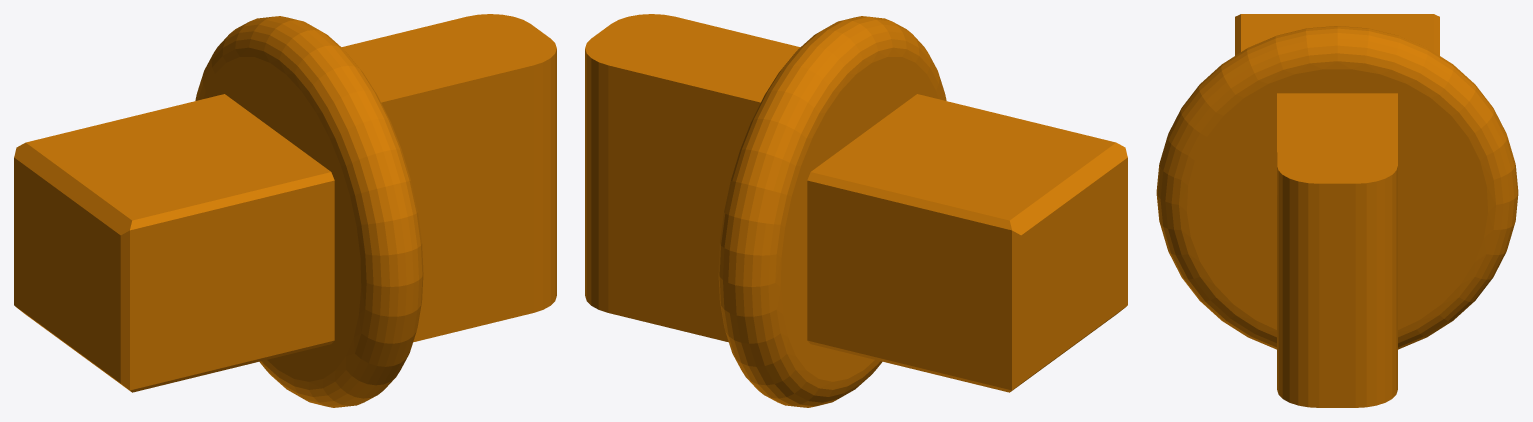
The model's file is yaw3.dae.
3 renders of one model, left to right at view 1: azimuth 30°, elevation 25°; view 2: azimuth 150°, elevation 25°; view 3: azimuth 270°, elevation 25°, orthographic. The views are drawn at different scales.
Visible parts, largest first — view 1: V2_Link; view 2: V2_Link; view 3: V2_Link.
Part boxes in pixels (x1=…): V2_Link: x1=14, y1=14, x2=556, y2=407; V2_Link: x1=585, y1=14, x2=1127, y2=407; V2_Link: x1=1156, y1=14, x2=1518, y2=407.
Bounding box in the file's own units: 0.082 × 0.06 × 0.06.
